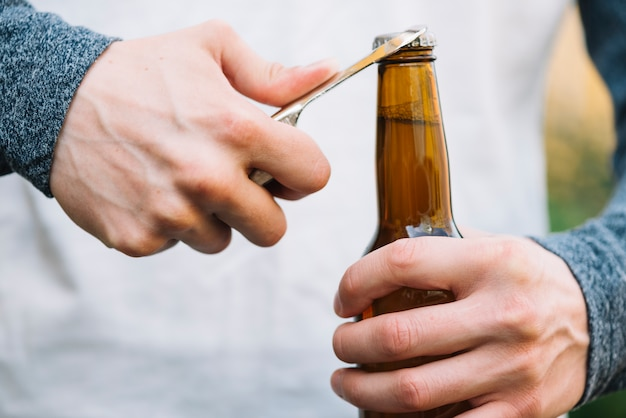alcohol: (356, 30, 477, 418)
